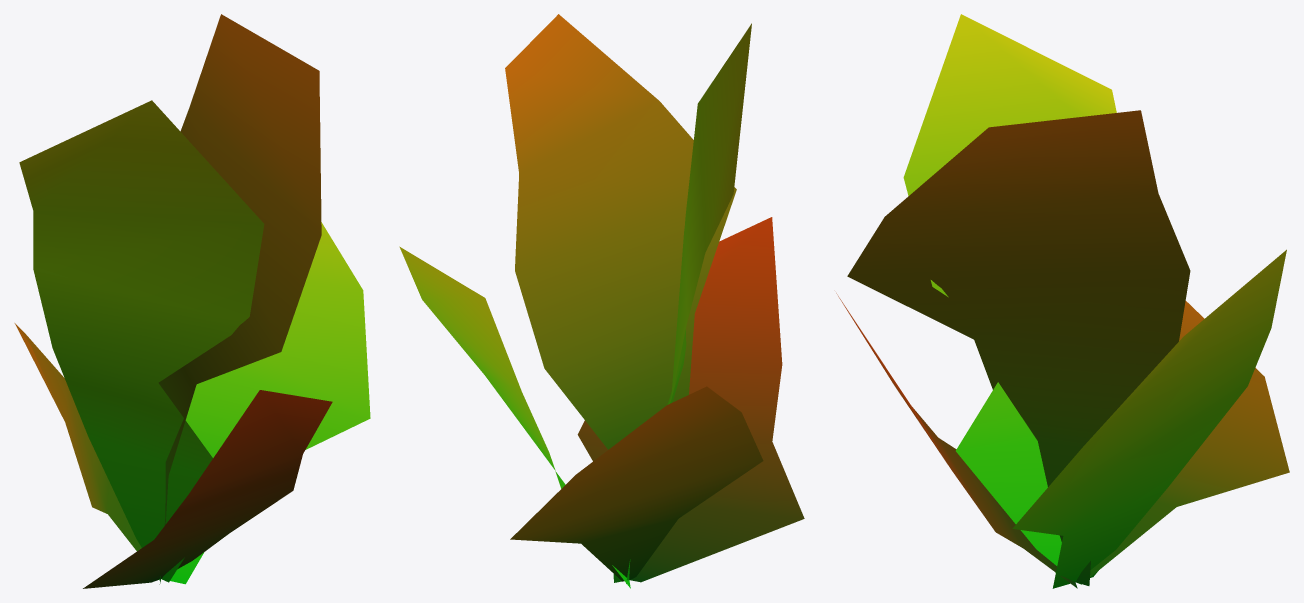
Rendered from Ocean Seaweed_LOD0_Var1_sdDgS.fbx.
The picture shows the model from 3 angles, left to right: view 1: azimuth 30°, elevation 25°; view 2: azimuth 150°, elevation 25°; view 3: azimuth 270°, elevation 25°; orthographic projection.
Visible parts, largest first — view 1: _41pj_Var1_LOD0; view 2: _41pj_Var1_LOD0; view 3: _41pj_Var1_LOD0.
Part boxes in pixels (x1=…): _41pj_Var1_LOD0: x1=14, y1=14, x2=370, y2=588; _41pj_Var1_LOD0: x1=399, y1=14, x2=804, y2=588; _41pj_Var1_LOD0: x1=836, y1=14, x2=1289, y2=588.
Bounding box in the file's own units: 29.14 × 44.84 × 34.61.
